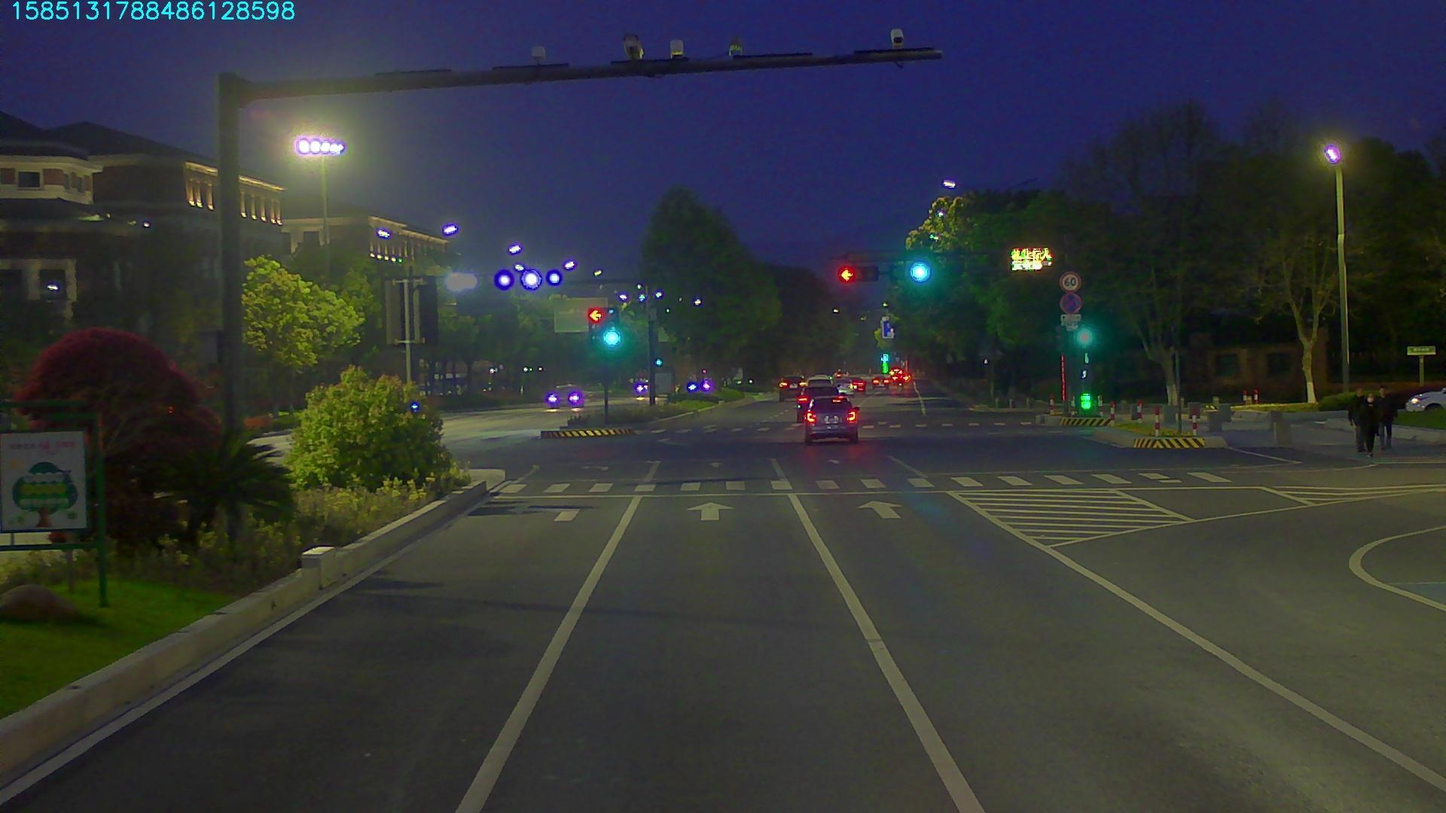green: (908, 262, 931, 278)
red: (837, 263, 866, 286)
